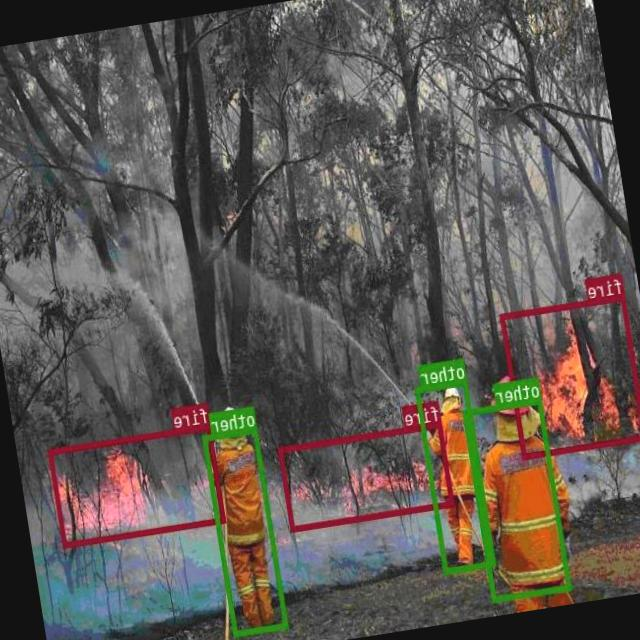fire: (500, 293, 640, 458), (49, 422, 227, 547), (279, 420, 456, 531)
